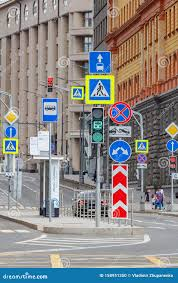tl: (89, 107, 105, 144)
